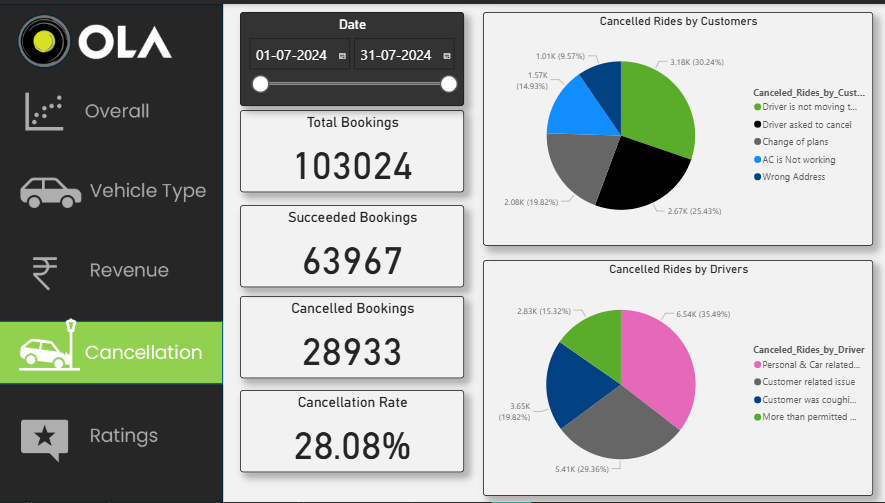

What the dashboard file says about the page in this screenshot:
{"tool":"powerbi","page":{"name":"Cancellation","canvas":[1280,720],"ordinal":3},"visuals":[{"type":"actionButton","box":[0,581.2,323.9,95.4],"z":0},{"type":"actionButton","box":[0,225.5,323.9,95.4],"z":1000},{"type":"pieChart","title":"Cancelled Rides by Customers","fields":{"Category":["Bookings.Canceled_Rides_by_Customer"],"Y":["CountNonNull(Bookings.Canceled_Rides_by_Customer)"]},"box":[699.8,11.6,563.9,338.3],"z":2000},{"type":"pieChart","title":"Cancelled Rides by Drivers","fields":{"Category":["Bookings.Canceled_Rides_by_Driver"],"Y":["CountNonNull(Bookings.Canceled_Rides_by_Driver)"]},"box":[699.8,370.1,563.9,341.2],"z":3000},{"type":"slicer","title":"Date","fields":{"Values":["Bookings.Date"]},"box":[348.4,11.6,323.9,135.9],"z":4000},{"type":"card","title":"Total Bookings","fields":{"Values":["Count(Bookings.Booking_ID)"]},"box":[348.4,153.3,323.9,118.6],"z":5000},{"type":"card","title":"Succeeded Bookings","fields":{"Values":["Count(Bookings.Booking_ID)"]},"box":[348.4,290.6,323.9,118.6],"z":6000},{"type":"card","title":"Cancelled Bookings","fields":{"Values":["Count(Bookings.Booking_ID)"]},"box":[348.4,422.2,323.9,118.6],"z":7000},{"type":"card","title":"Cancellation Rate","fields":{"Values":["Bookings.CanceledPercentage"]},"box":[348.4,558.1,323.9,118.6],"z":8000},{"type":"actionButton","box":[0,337.6,324.2,95.7],"z":9000},{"type":"actionButton","box":[0,117.6,324.2,95.7],"z":10000}]}

Visuals, with their boxes on the page's 1280x720 design canvas (x1, y1, x2, y2). These are canvas units, not pixel positions in the 885x503 screenshot, which may show the page scaled, cropped or inside an application window:
actionButton: Rect(0, 581, 324, 677)
actionButton: Rect(0, 226, 324, 321)
"Cancelled Rides by Customers" pieChart: Rect(700, 12, 1264, 350)
"Cancelled Rides by Drivers" pieChart: Rect(700, 370, 1264, 711)
"Date" slicer: Rect(348, 12, 672, 148)
"Total Bookings" card: Rect(348, 153, 672, 272)
"Succeeded Bookings" card: Rect(348, 291, 672, 409)
"Cancelled Bookings" card: Rect(348, 422, 672, 541)
"Cancellation Rate" card: Rect(348, 558, 672, 677)
actionButton: Rect(0, 338, 324, 433)
actionButton: Rect(0, 118, 324, 213)
